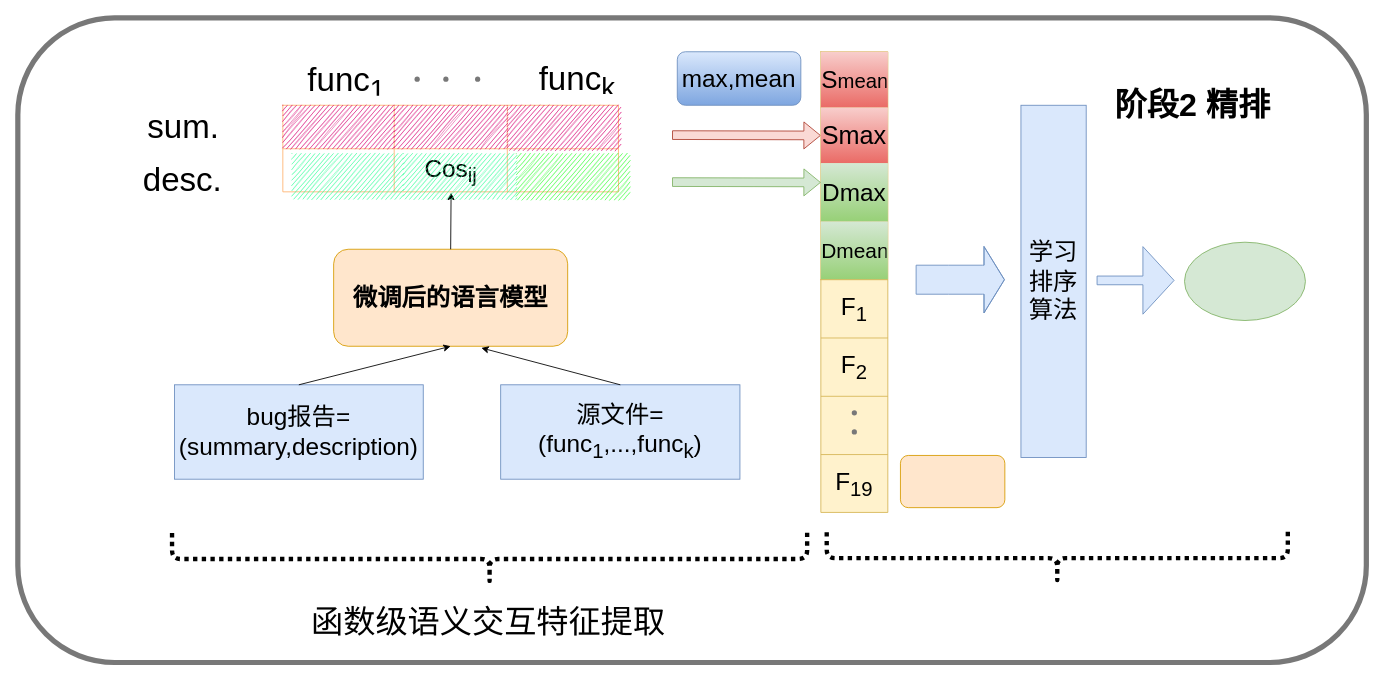
Image size: 1383x679. Some labels were removed from this diagram. The shapes that lost their labels are listed below. From the top down, each one's centre as x and y in pixels, then its label:
At [1244,281]: "相关性 得分".
At [952,481]: "IR 特征".
At [1057,557]: "特征融合".
